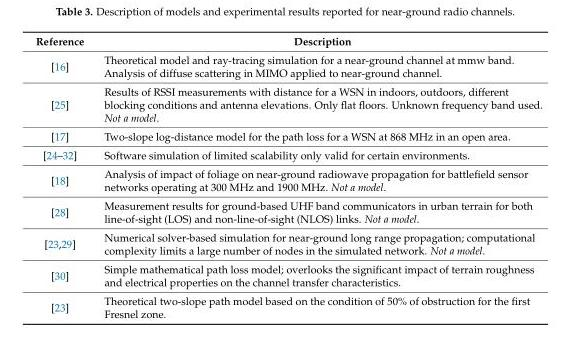table: (34, 34, 541, 319)
table column: (93, 34, 541, 319), (34, 34, 93, 319)
table column header: (34, 34, 541, 50)
table row: (34, 81, 541, 126), (34, 195, 541, 227), (34, 227, 541, 259), (34, 259, 541, 291), (34, 50, 541, 81), (34, 164, 541, 195), (34, 291, 541, 319), (34, 126, 541, 145), (34, 145, 541, 164), (34, 34, 541, 50)
